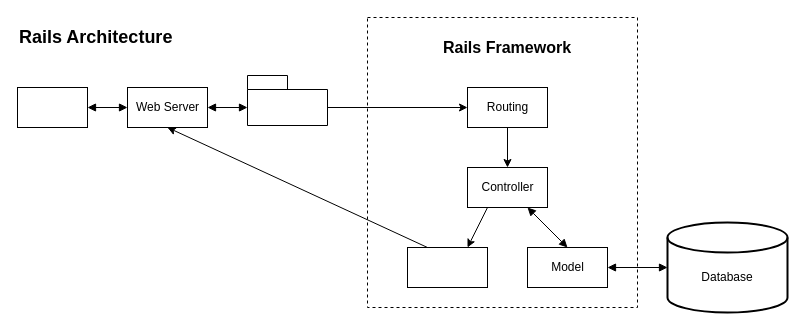
The diagram is 806 pixels wide and 331 high, and some of its shapes have lost their labels. The box of each missing label's shape, as (x1, y1, x2, y2) in pixels:
Browser: (16, 86, 88, 128)
public: (246, 74, 328, 126)
View: (406, 246, 488, 288)
